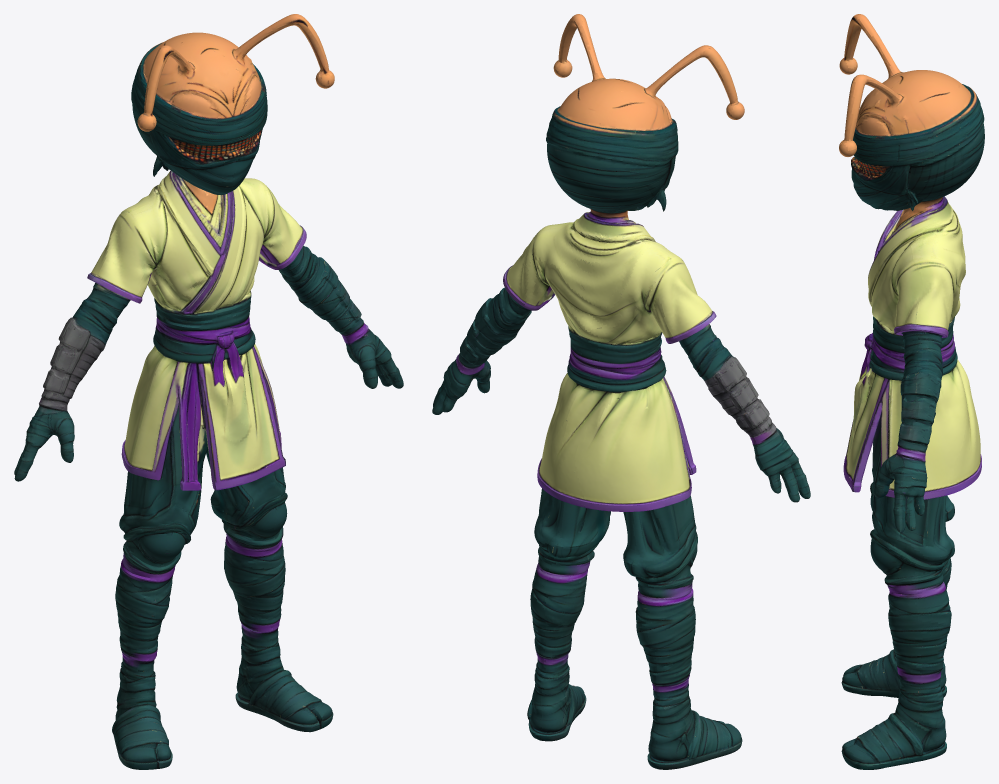
File: rebel_262_static_source_fv2_v1.glb
3 views of the same model, side by side, from view 1: azimuth 30°, elevation 25°; view 2: azimuth 150°, elevation 25°; view 3: azimuth 270°, elevation 25° (orthographic). The views are drawn at different scales.
Parts seen in each view (by area): view 1: Mesh_0; view 2: Mesh_0; view 3: Mesh_0.
Part boxes in pixels (<box>): Mesh_0: <box>14,14,403,769</box>; Mesh_0: <box>432,14,810,769</box>; Mesh_0: <box>839,14,984,769</box>.
Bounding box in the file's own units: 1.08 × 1.9 × 0.3703.
Materials: 1 (1 with a texture image).
